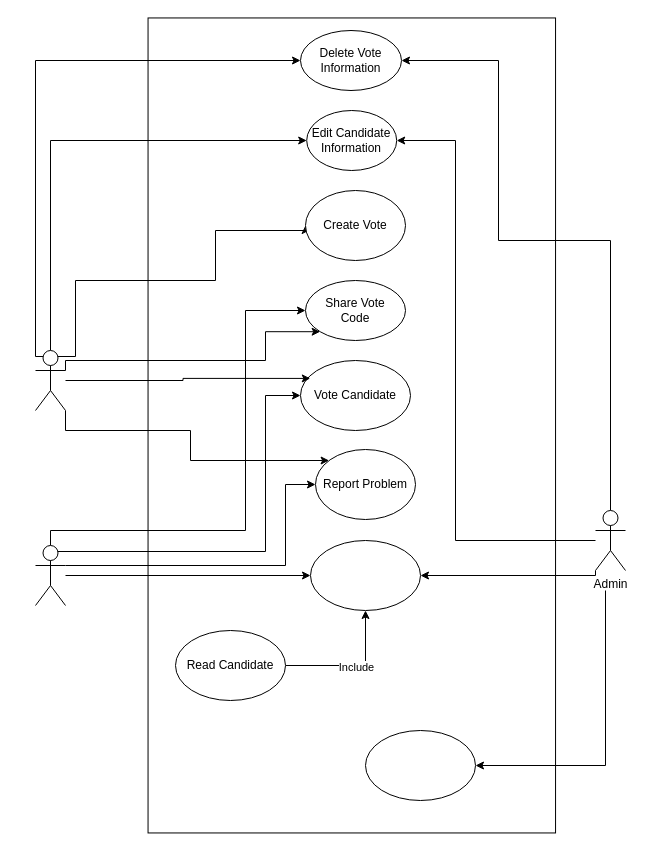
Image size: 645x850. Some labels were removed from this diagram. The shapes that lost their labels are listed below. From the top down, each one's centre as x and y in pixels, then its label:
At [50,380]: "Vote Creator".
At [50,575]: "Voters".
At [365,575]: "Join Vote".
At [420,765]: "Maintenance".
